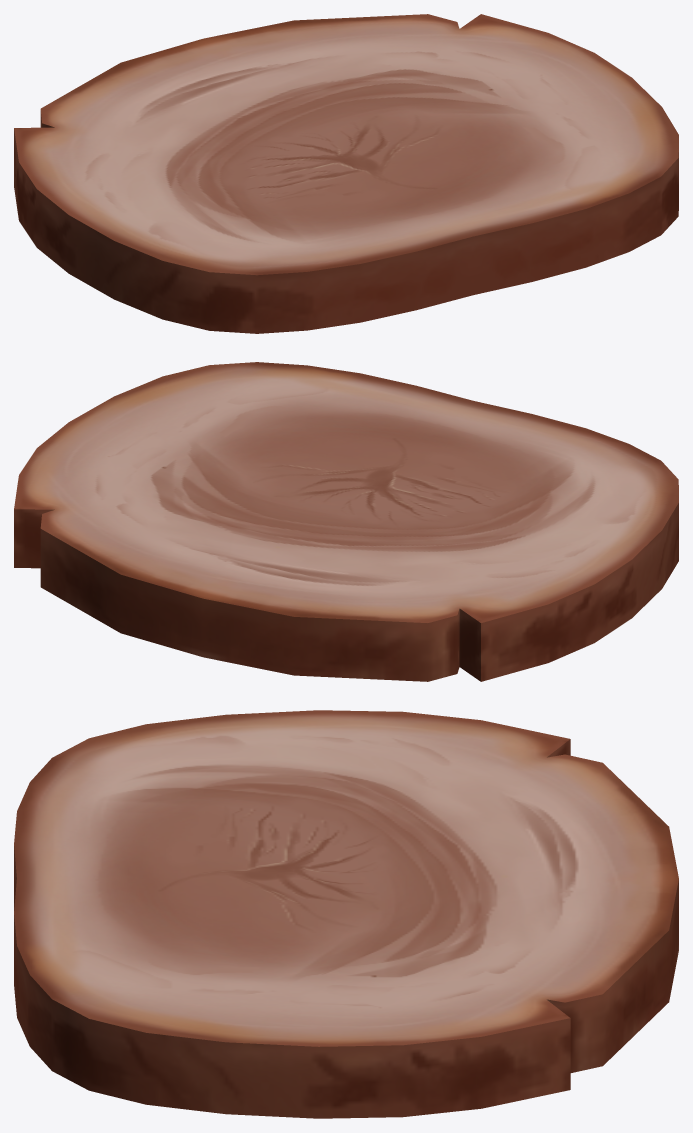
The model's file is ramenPork.fbx.
3 renders of one model, top to bottom at view 1: azimuth 30°, elevation 25°; view 2: azimuth 150°, elevation 25°; view 3: azimuth 270°, elevation 25°, orthographic. The views are drawn at different scales.
Parts seen in each view (by area): view 1: ramenPork; view 2: ramenPork; view 3: ramenPork.
Boxes of the visible parts, <box> form: ramenPork: <box>14,14,678,333</box>; ramenPork: <box>14,362,678,681</box>; ramenPork: <box>14,710,678,1118</box>.
Bounding box in the file's own units: 13.96 × 1.39 × 11.66.
